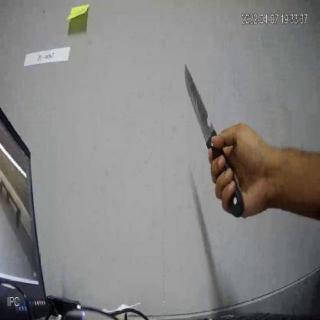knife: (185, 60, 247, 216)
